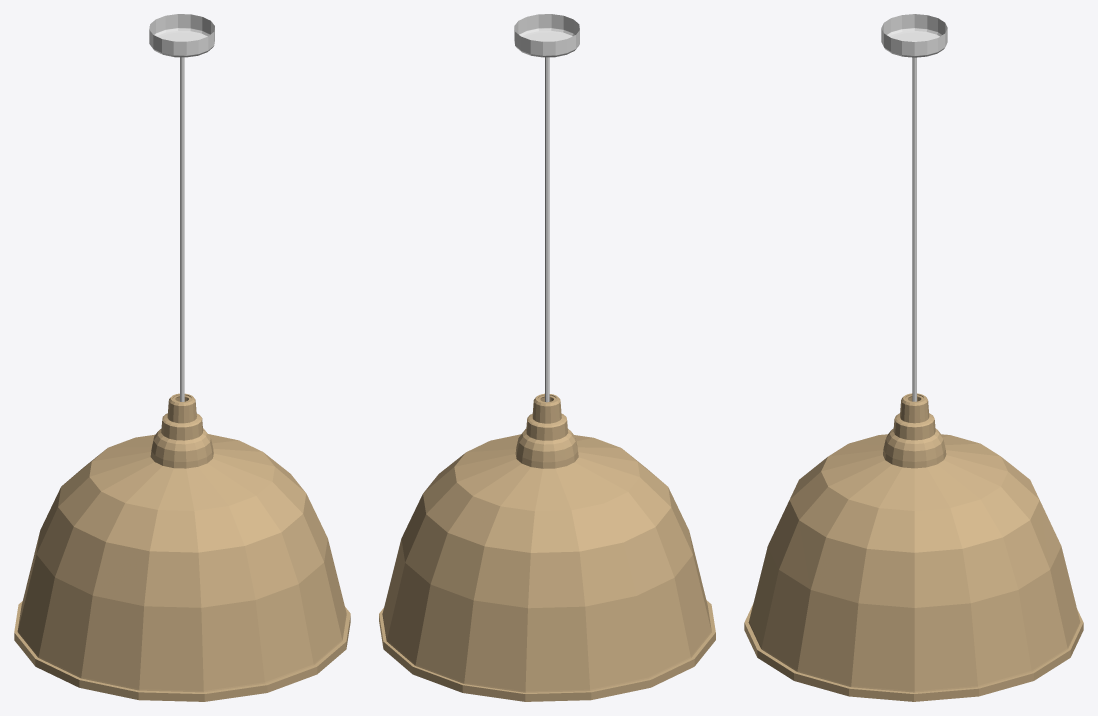
File: by-hanginglight.glb
The picture shows the model from 3 angles, left to right: view 1: azimuth 30°, elevation 25°; view 2: azimuth 150°, elevation 25°; view 3: azimuth 270°, elevation 25°; orthographic projection.
Visible parts, largest first — view 1: Lamp-shade_Cylinder.014, Light-Ceiling-Fitting_Circle, Lampshade-cable_Cylinder.015; view 2: Lamp-shade_Cylinder.014, Light-Ceiling-Fitting_Circle, Lampshade-cable_Cylinder.015; view 3: Lamp-shade_Cylinder.014, Light-Ceiling-Fitting_Circle, Lampshade-cable_Cylinder.015.
Part boxes in pixels (box(x1,y1,x2,y2)): Lamp-shade_Cylinder.014: box(14, 393, 350, 701); Light-Ceiling-Fitting_Circle: box(149, 14, 214, 57); Lampshade-cable_Cylinder.015: box(180, 57, 184, 401); Lamp-shade_Cylinder.014: box(379, 393, 715, 701); Light-Ceiling-Fitting_Circle: box(514, 14, 579, 57); Lampshade-cable_Cylinder.015: box(545, 57, 549, 402); Lamp-shade_Cylinder.014: box(744, 393, 1083, 701); Light-Ceiling-Fitting_Circle: box(881, 14, 947, 57); Lampshade-cable_Cylinder.015: box(912, 57, 916, 401).
Size of the model in its own units: 0.439 by 0.86 by 0.439.
